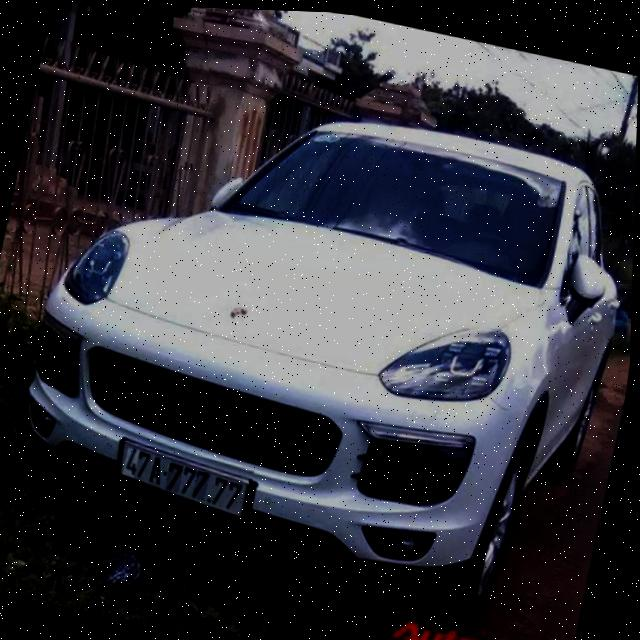car: (0, 63, 638, 630)
plate: (108, 430, 259, 525)
